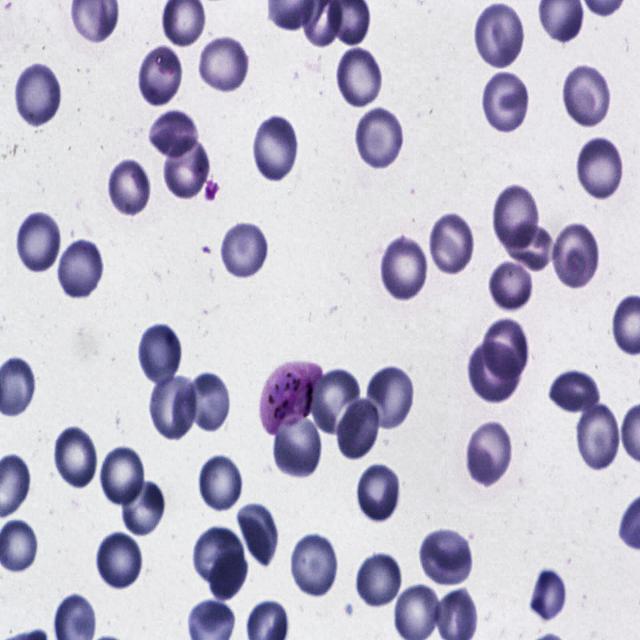difficult: (258, 357, 322, 432)
red blood cell: (471, 0, 527, 70), (270, 408, 326, 478), (377, 228, 429, 303), (308, 366, 362, 438), (489, 181, 541, 254), (12, 59, 64, 129), (574, 134, 626, 203), (353, 102, 405, 171), (13, 206, 65, 275), (466, 339, 522, 403), (464, 416, 513, 489), (419, 525, 476, 586), (196, 33, 252, 95), (252, 112, 300, 183), (287, 531, 338, 597), (482, 70, 533, 136), (562, 62, 613, 128), (362, 366, 416, 428), (146, 376, 197, 441), (551, 220, 599, 289), (193, 523, 246, 585), (574, 400, 620, 471), (97, 440, 145, 508), (334, 44, 384, 109), (162, 137, 211, 202), (134, 44, 183, 108), (184, 369, 232, 434), (95, 528, 145, 590), (427, 213, 476, 276), (479, 319, 528, 382), (220, 219, 270, 280), (196, 450, 245, 512), (57, 238, 106, 300), (138, 321, 184, 387), (144, 106, 200, 159), (119, 477, 166, 537), (503, 221, 556, 274), (54, 425, 98, 488), (356, 462, 402, 521), (356, 551, 402, 610), (488, 257, 536, 313), (334, 401, 378, 462), (108, 158, 150, 221), (237, 503, 277, 568), (547, 366, 600, 414), (208, 547, 249, 606), (528, 566, 565, 622)
